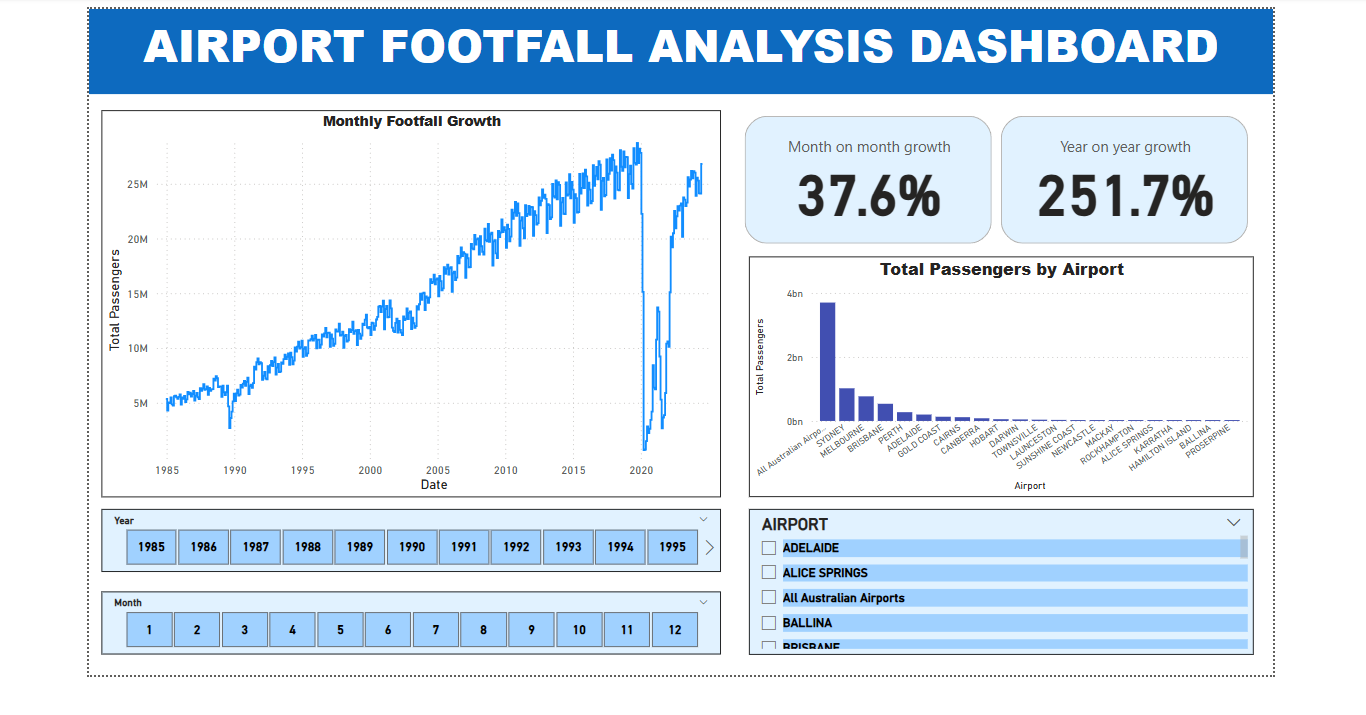

The dashboard page shown, as its layout file describes it:
{"tool":"powerbi","page":{"name":"Page 1","canvas":[1280,720],"ordinal":0},"visuals":[{"type":"textbox","box":[0,0,1280,92],"z":0},{"type":"lineChart","title":"Monthly Footfall Growth","fields":{"Category":["DateTable.Date"],"Y":["Sum(mon_pax_web.Pax_Total)"]},"box":[13.3,109.3,669.3,418.7],"z":1000},{"type":"cardVisual","fields":{"Data":["DateTable.MoM Growth (%)"]},"box":[704,110.7,277.3,148],"z":2000},{"type":"cardVisual","fields":{"Data":["DateTable.YoY Growth (%)"]},"box":[981.3,110.7,277.3,148],"z":3000},{"type":"clusteredColumnChart","fields":{"Category":["mon_pax_web.AIRPORT"],"Y":["Sum(mon_pax_web.Pax_Total)"]},"box":[713.3,268,545.3,260],"z":4000},{"type":"slicer","fields":{"Values":["mon_pax_web.Year"]},"box":[13.3,540,669.3,68],"z":5000},{"type":"slicer","fields":{"Values":["mon_pax_web.Month"]},"box":[13.3,629.3,669.3,68],"z":6000},{"type":"slicer","fields":{"Values":["mon_pax_web.AIRPORT"]},"box":[713.3,540,545.3,157.3],"z":7000}]}

Visuals, with their boxes in screenshot pixels (x1, y1, x2, y2):
textbox: rect(75, 4, 1284, 90)
"Monthly Footfall Growth" lineChart: rect(87, 107, 720, 502)
cardVisual - DateTable.MoM Growth (%): rect(740, 108, 1002, 248)
cardVisual - DateTable.YoY Growth (%): rect(1002, 108, 1264, 248)
clusteredColumnChart - mon_pax_web.AIRPORT x Sum(mon_pax_web.Pax_Total): rect(749, 257, 1264, 502)
slicer - mon_pax_web.Year: rect(87, 514, 720, 578)
slicer - mon_pax_web.Month: rect(87, 598, 720, 662)
slicer - mon_pax_web.AIRPORT: rect(749, 514, 1264, 662)
